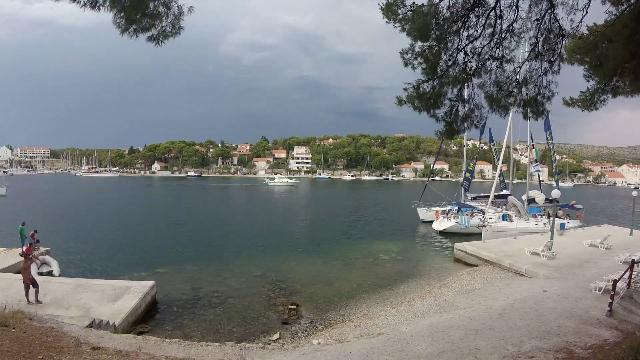speedboat: (259, 172, 303, 188)
